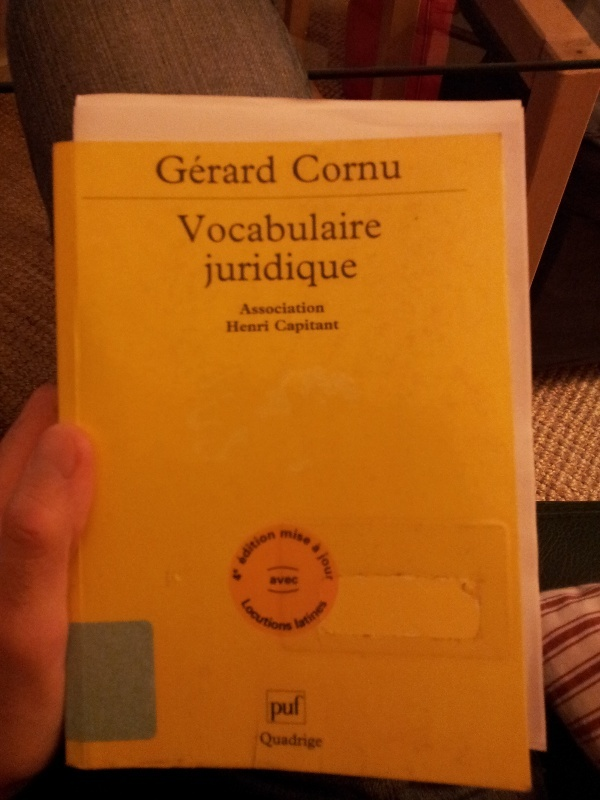text: (241, 589, 256, 643), (257, 589, 272, 643), (273, 589, 288, 643), (289, 144, 304, 197), (305, 144, 320, 197), (321, 144, 336, 197), (337, 144, 352, 197), (353, 144, 368, 197), (369, 144, 384, 197), (385, 144, 400, 197), (241, 523, 256, 575), (257, 523, 272, 575), (161, 143, 176, 194), (177, 143, 192, 194), (193, 143, 208, 194), (209, 143, 224, 194), (225, 143, 240, 194), (241, 143, 256, 194), (257, 143, 272, 194), (209, 247, 224, 297), (225, 247, 240, 297), (241, 247, 256, 297), (257, 247, 272, 297), (273, 247, 288, 297), (289, 247, 304, 297), (305, 247, 320, 297), (321, 247, 336, 297), (337, 247, 352, 297), (177, 203, 192, 251), (193, 203, 208, 251), (209, 203, 224, 251), (225, 203, 240, 251), (241, 203, 256, 251), (257, 203, 272, 251), (273, 203, 288, 251), (289, 203, 304, 251), (305, 203, 320, 251), (321, 203, 336, 251), (337, 203, 352, 251), (353, 203, 368, 251), (369, 203, 384, 251), (194, 247, 208, 297), (227, 523, 240, 575), (305, 593, 320, 633), (273, 689, 288, 726), (289, 689, 304, 726), (273, 523, 283, 575), (353, 247, 363, 297), (321, 551, 336, 584), (257, 722, 272, 754), (273, 722, 288, 754), (289, 722, 304, 754), (305, 722, 320, 754), (292, 593, 304, 633), (151, 143, 160, 194), (273, 143, 282, 194), (321, 722, 335, 754), (321, 593, 331, 633), (289, 589, 296, 643), (273, 314, 288, 339), (289, 314, 304, 339), (305, 314, 320, 339), (321, 314, 336, 339), (241, 294, 256, 318), (257, 294, 272, 318), (273, 294, 288, 318), (289, 294, 304, 318), (305, 294, 320, 318), (289, 525, 304, 547), (305, 689, 313, 726), (257, 318, 273, 336), (225, 318, 240, 336), (241, 318, 256, 336), (305, 525, 317, 547), (321, 294, 330, 318), (401, 144, 405, 197), (267, 689, 272, 726), (280, 525, 288, 547), (337, 314, 344, 339), (315, 551, 320, 584), (309, 542, 320, 556), (385, 203, 388, 251), (238, 589, 240, 643), (321, 542, 327, 556), (237, 294, 240, 318), (337, 551, 339, 584), (175, 203, 176, 251), (255, 722, 256, 754), (271, 314, 272, 339), (223, 318, 224, 336)
